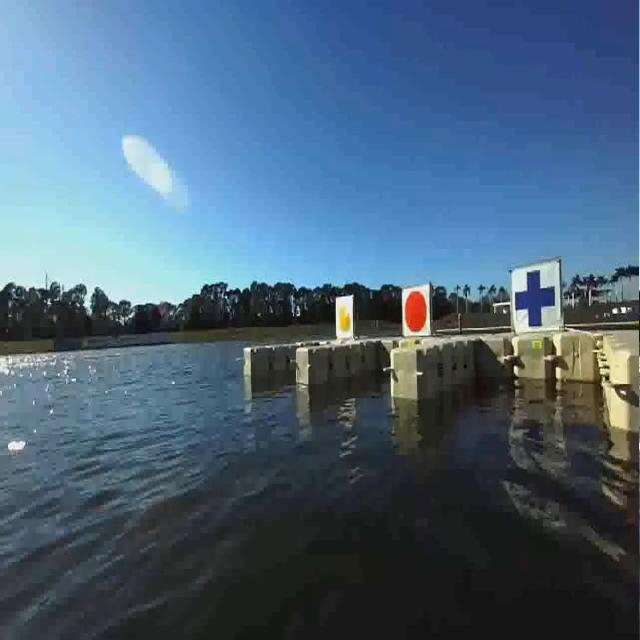blue-cross: (509, 257, 565, 336)
red-dot: (400, 281, 438, 342)
yellow-duck: (333, 290, 355, 343)
